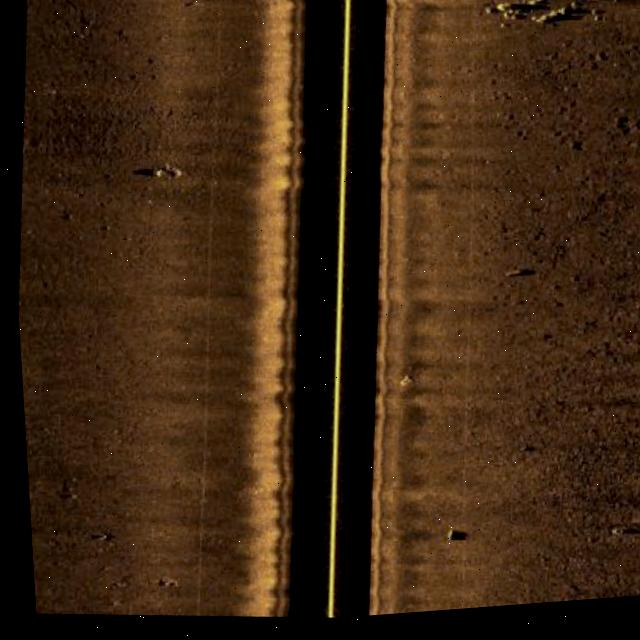mine: (495, 271, 535, 292), (437, 531, 462, 552), (510, 449, 534, 464)
